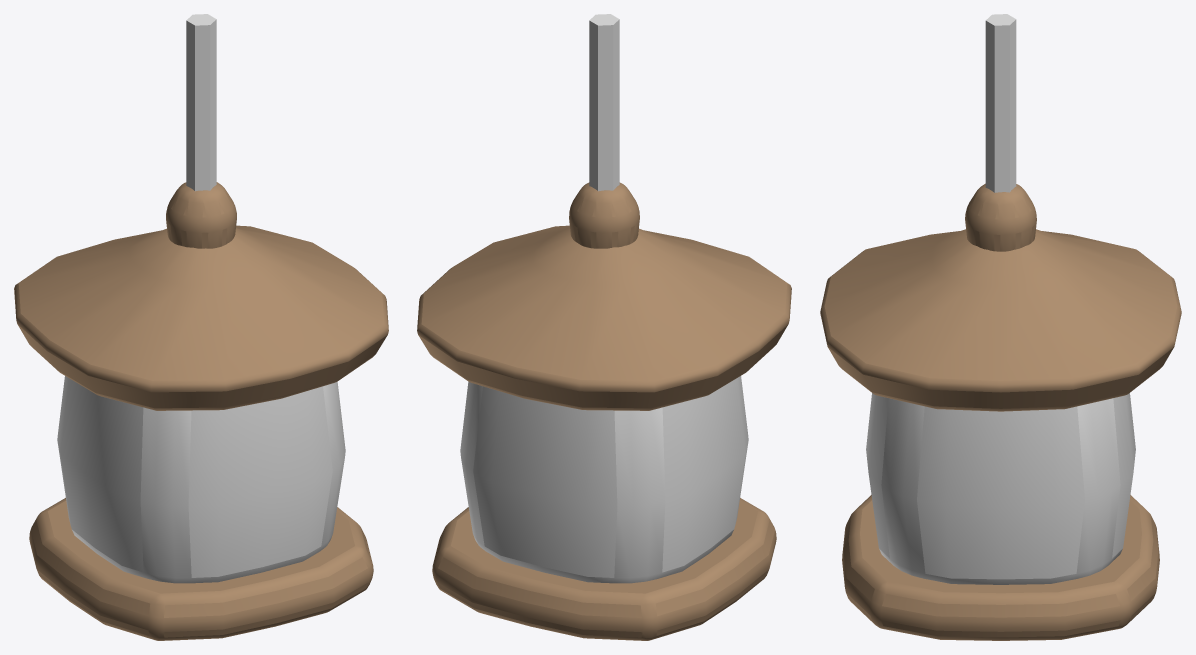
The model's file is prop_lantern_hang_1.glb.
The picture shows the model from 3 angles, left to right: view 1: azimuth 30°, elevation 25°; view 2: azimuth 150°, elevation 25°; view 3: azimuth 270°, elevation 25°; orthographic projection.
Parts seen in each view (by area): view 1: prop_lantern_hang_1_timber, prop_lantern_hang_1_pv_capiz_lantern, prop_lantern_hang_1_pv_rope; view 2: prop_lantern_hang_1_timber, prop_lantern_hang_1_pv_capiz_lantern, prop_lantern_hang_1_pv_rope; view 3: prop_lantern_hang_1_timber, prop_lantern_hang_1_pv_capiz_lantern, prop_lantern_hang_1_pv_rope.
Boxes of the visible parts, x1,y1,x2,y2 form: prop_lantern_hang_1_timber: (14, 182, 388, 640); prop_lantern_hang_1_pv_capiz_lantern: (57, 376, 345, 583); prop_lantern_hang_1_pv_rope: (186, 14, 216, 191); prop_lantern_hang_1_timber: (417, 182, 791, 640); prop_lantern_hang_1_pv_capiz_lantern: (460, 376, 748, 583); prop_lantern_hang_1_pv_rope: (589, 14, 619, 191); prop_lantern_hang_1_timber: (820, 183, 1181, 640); prop_lantern_hang_1_pv_capiz_lantern: (866, 393, 1135, 584); prop_lantern_hang_1_pv_rope: (985, 14, 1016, 192).
Bounding box in the file's own units: 0.4712 × 0.8035 × 0.4712.
